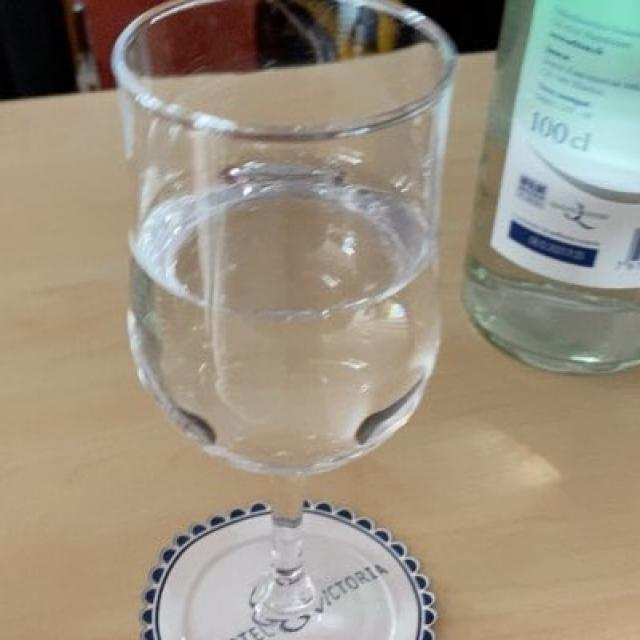water: (138, 192, 446, 476)
